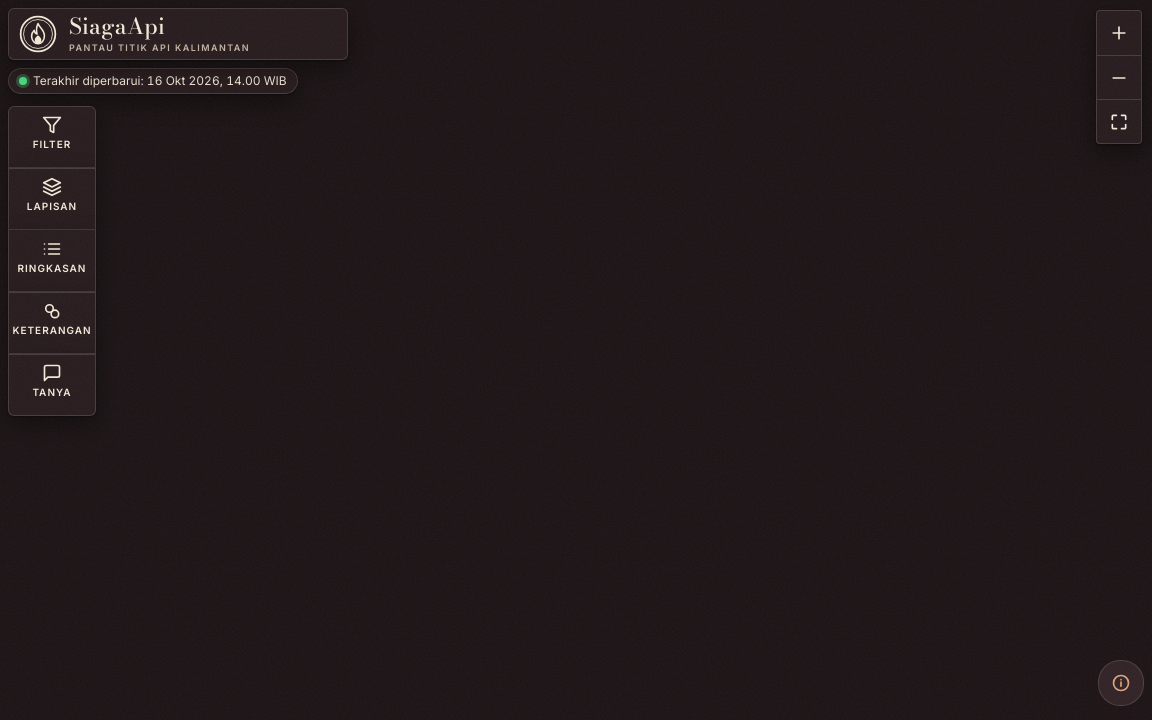
Test: an answer containing HTML is shown literally and never becomes markup
This screenshot has width=1152, height=720.
Click the button "Tanya": coordinates (52, 385) [9, 363, 95, 407]
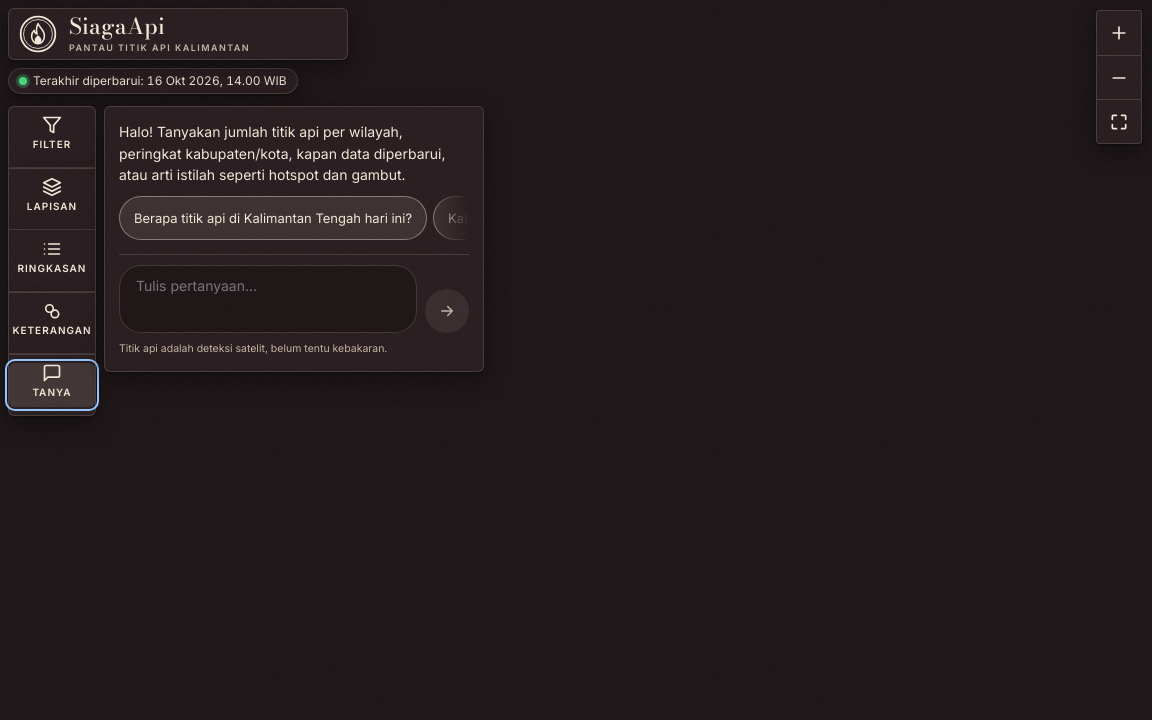
In the text box labelled "pertanyaan": coordinates (268, 299) [119, 265, 417, 333], type "coba"
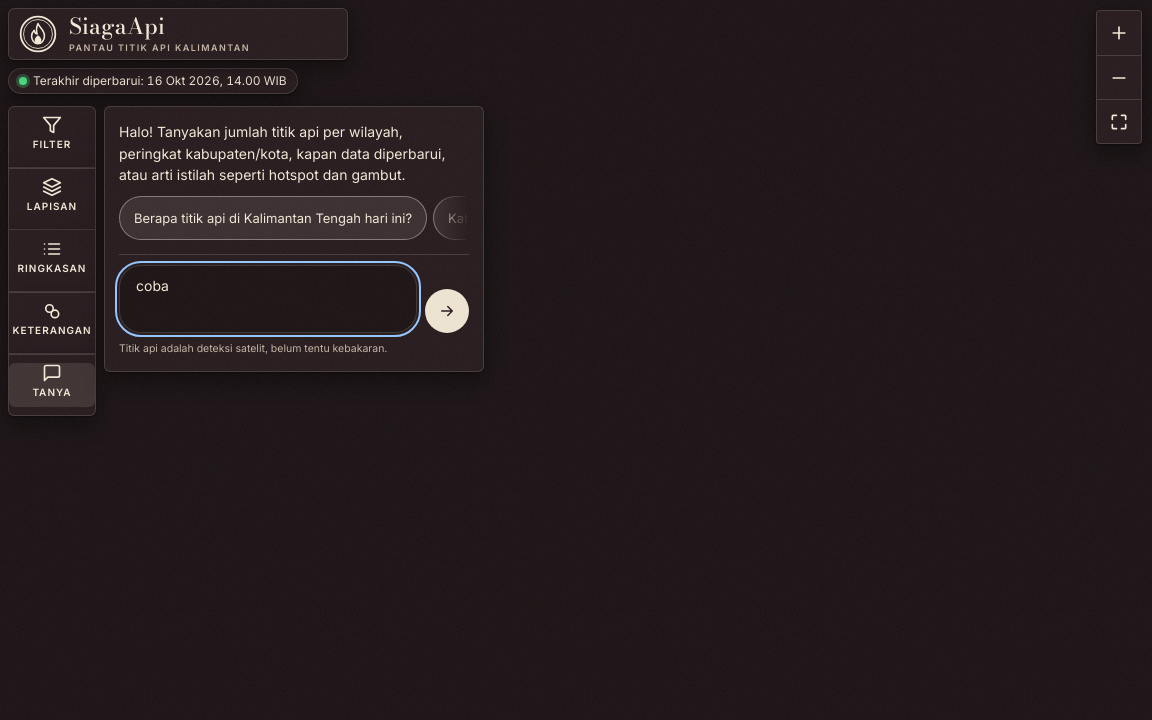
Click the button named "Kirim": coordinates (447, 311) [425, 289, 469, 333]
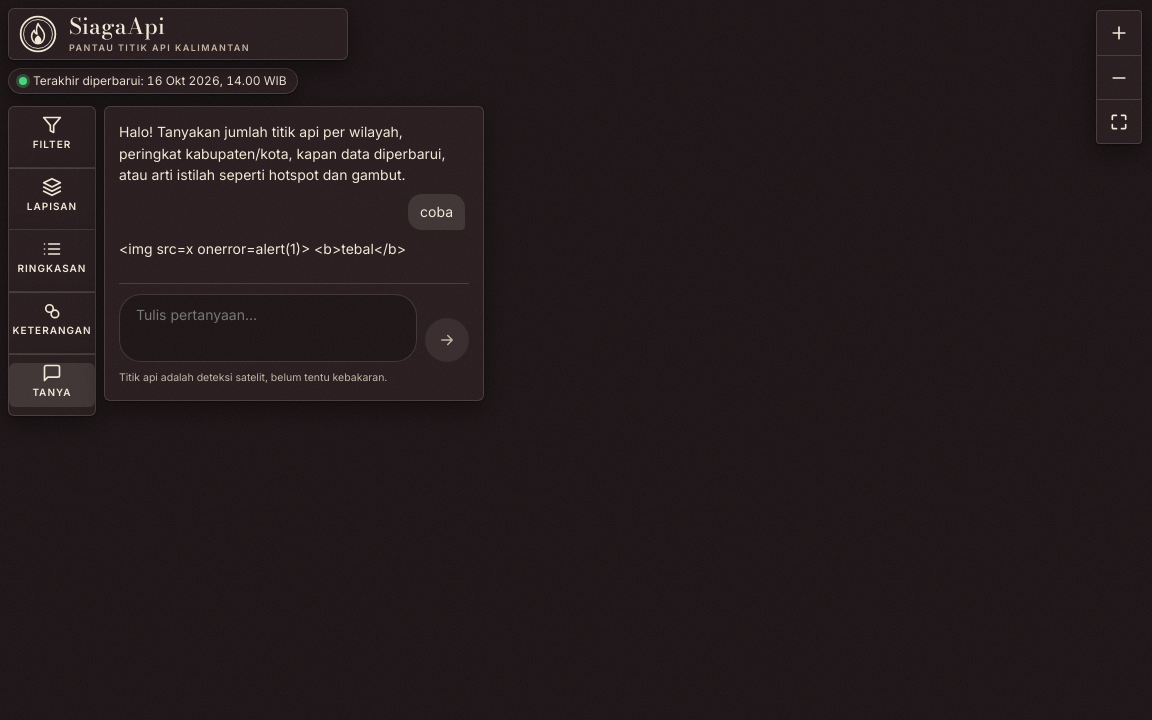
Result: the text "<img src=x onerror=alert(1)> <b>tebal</b>" is shown at [119, 240, 406, 257]
